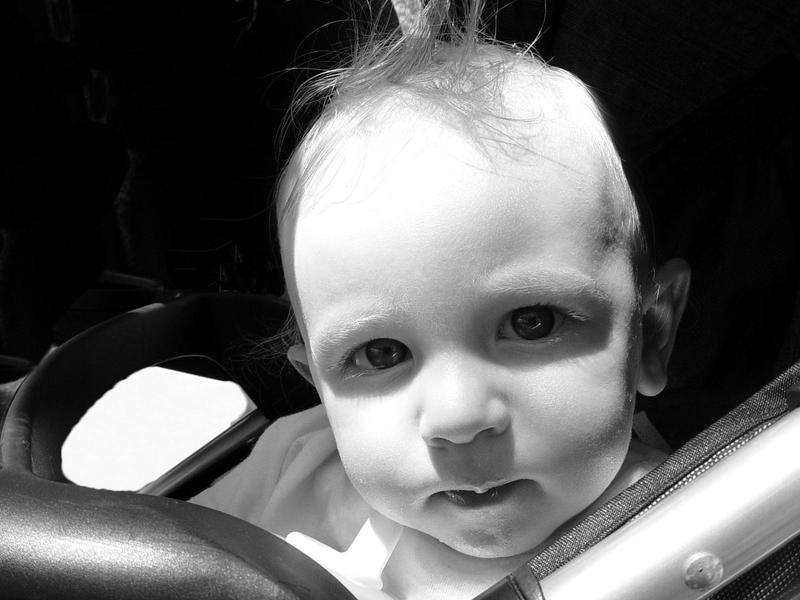person: (207, 31, 740, 600)
